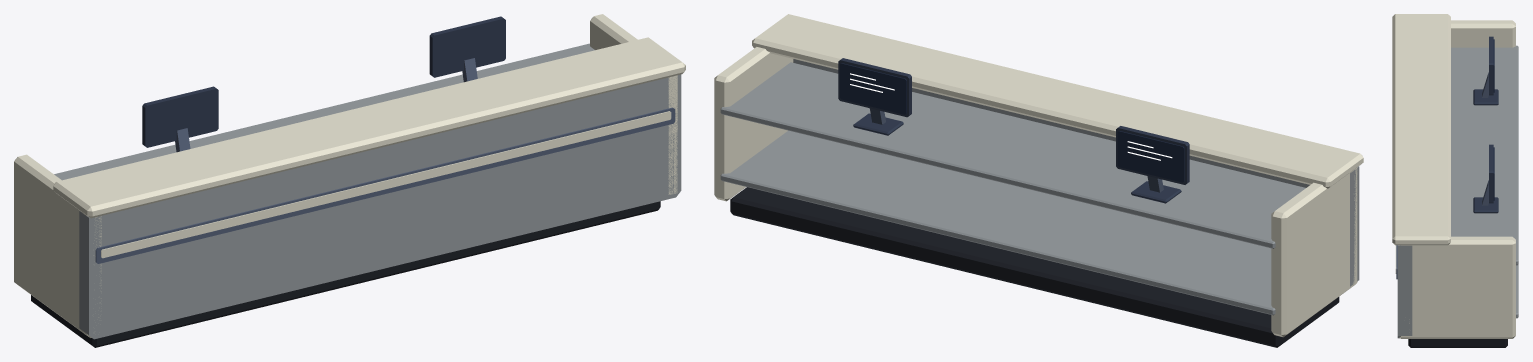
Rendered from bw_reception_counter.glb.
3 views of the same model, side by side, from view 1: azimuth 30°, elevation 25°; view 2: azimuth 150°, elevation 25°; view 3: azimuth 270°, elevation 25° (orthographic). The views are drawn at different scales.
Parts seen in each view (by area): view 1: apron, countertop, monitor, monitor_neck, plinth; view 2: apron, countertop, plinth, display, monitor; view 3: countertop, apron, monitor, plinth, monitor_neck, display.
Part boxes in pixels (x1,y1,x2,y2): apron: (54,43,681,339); countertop: (14,14,685,337); monitor: (142,16,505,147); monitor_neck: (95,58,675,263); plinth: (31,201,660,347); apron: (720,59,1359,315); countertop: (714,14,1363,337); plinth: (730,187,1339,347); display: (840,63,1184,182); monitor: (838,58,1189,203); countertop: (1392,14,1515,338); apron: (1397,45,1518,338); monitor: (1473,36,1498,213); plinth: (1408,339,1507,347); monitor_neck: (1396,72,1488,279); display: (1493,39,1494,200).
Size of the model in its own units: 4 by 1.15 by 0.95.
